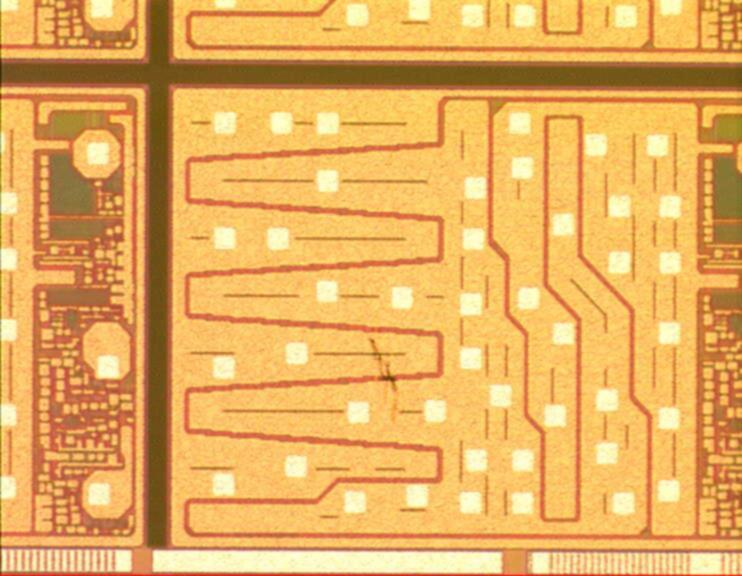SCRATCH: (354, 325, 409, 427)
